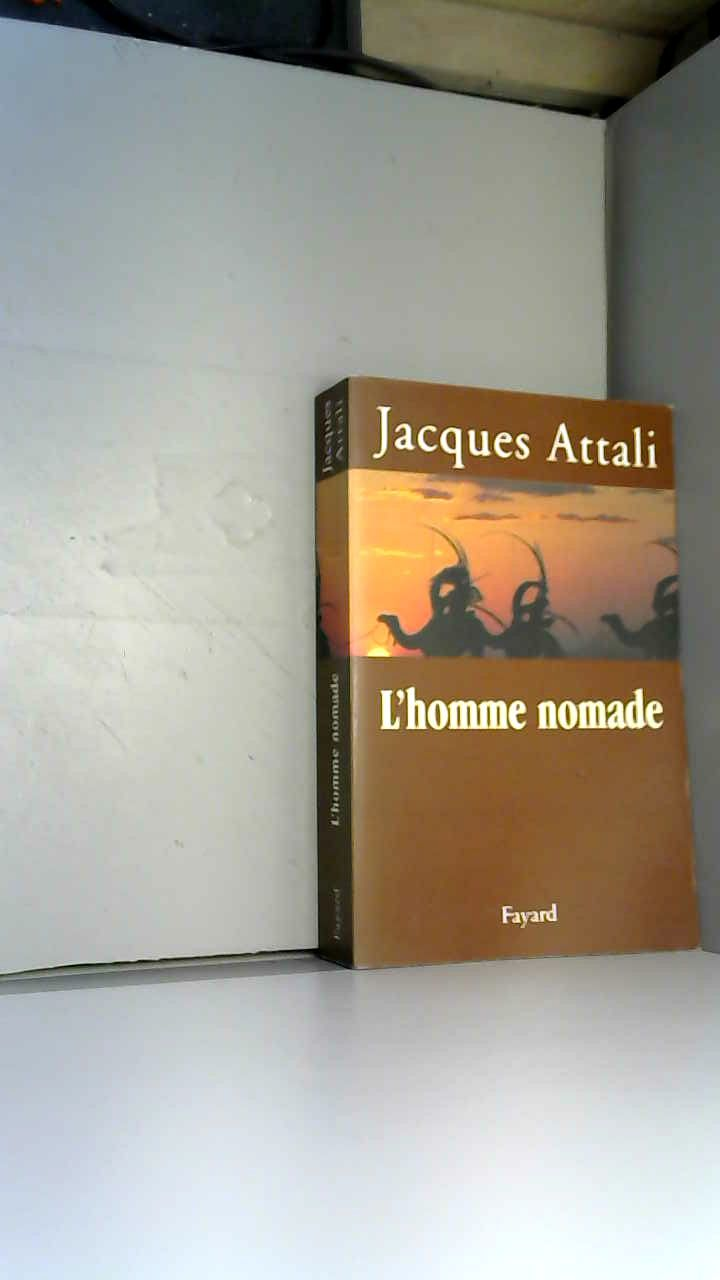book: (274, 343, 720, 1003)
